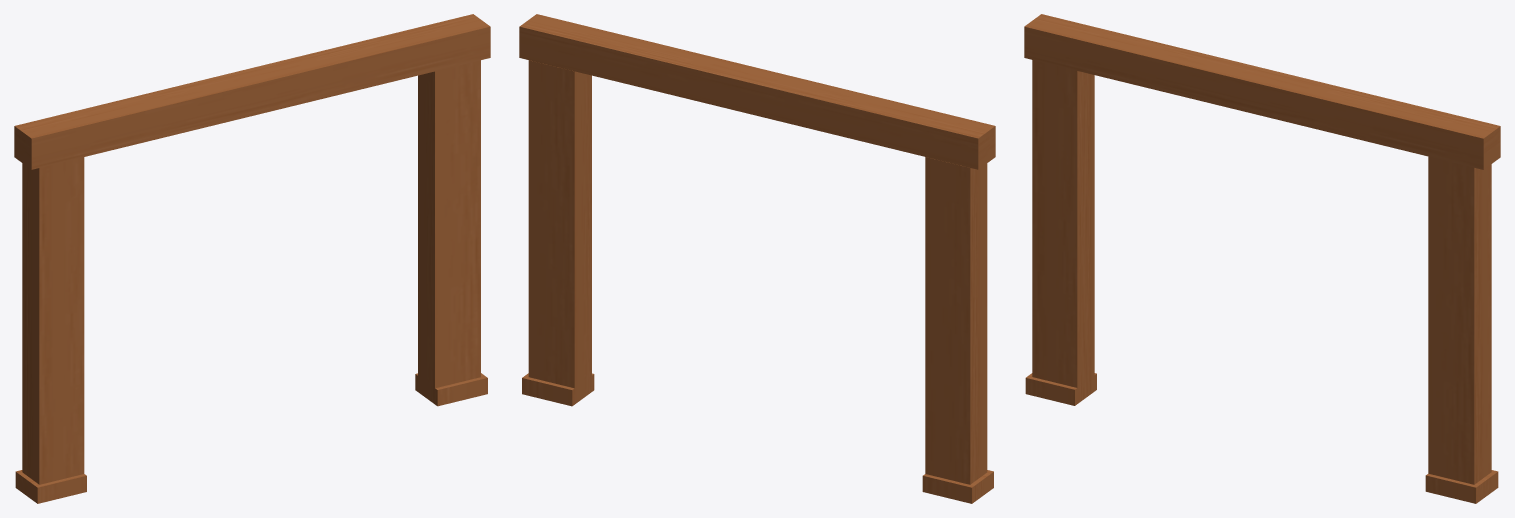
File: Doorframe_DW_A.FBX
The picture shows the model from 3 angles, left to right: view 1: azimuth 30°, elevation 25°; view 2: azimuth 150°, elevation 25°; view 3: azimuth 330°, elevation 25°; orthographic projection.
Parts seen in each view (by area): view 1: DoorFrame_DW_A; view 2: DoorFrame_DW_A; view 3: DoorFrame_DW_A.
Part boxes in pixels (<box>): DoorFrame_DW_A: <box>14,14,490,503</box>; DoorFrame_DW_A: <box>519,14,995,503</box>; DoorFrame_DW_A: <box>1024,14,1500,503</box>.
Bounding box in the file's own units: 537 × 408 × 44.91.
